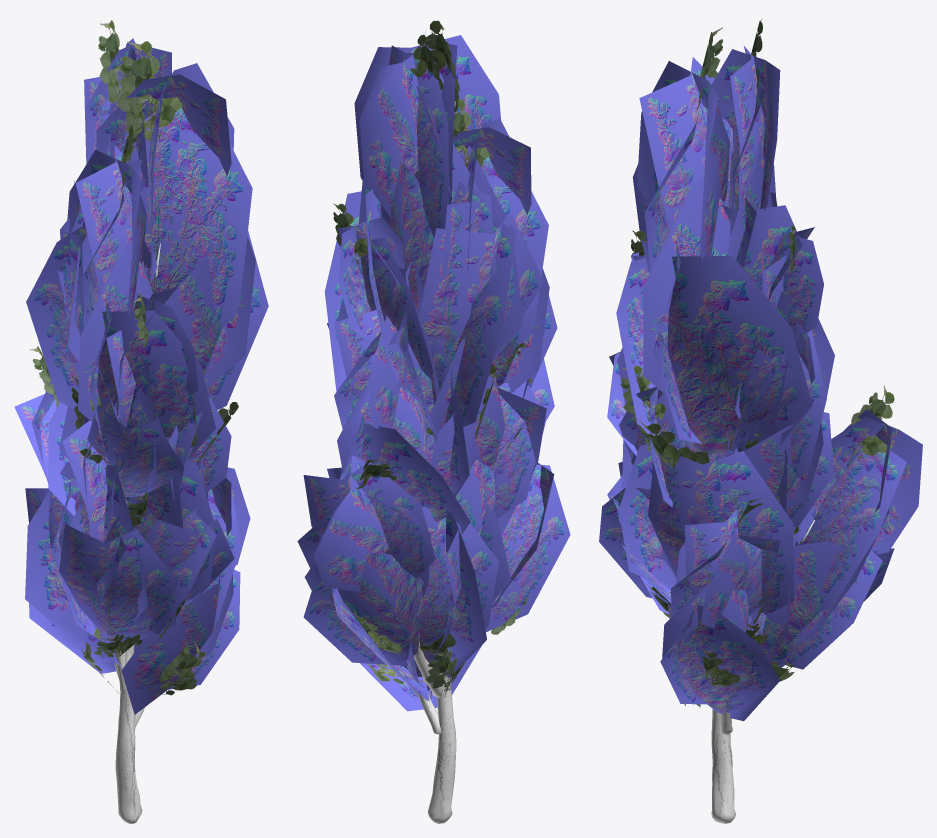
The model's file is PoplarTree00b.fbx.
The picture shows the model from 3 angles, left to right: view 1: azimuth 30°, elevation 25°; view 2: azimuth 150°, elevation 25°; view 3: azimuth 270°, elevation 25°; orthographic projection.
Parts seen in each view (by area): view 1: PoplarBranchA036, PoplarBranchA003, PoplarBranchB021, PoplarBranchA040, PoplarBranchB027, PoplarBranchA037, PoplarBranchB003, PoplarBranchA032, PoplarBranchA013, PoplarBranchB020, PoplarBranchB023, PoplarBranchB024 (+39 smaller); view 2: PoplarBranchA038, PoplarBranchB016, PoplarBranchA005, PoplarBranchB029, PoplarBranchA047, PoplarBranchA040, PoplarBranchB028, PoplarBranchA050, PoplarBranchA027, PoplarBranchB012, PoplarBranchB017, PoplarBranchB022 (+43 smaller); view 3: PoplarBranchB024, PoplarBranchA, PoplarBranchA046, PoplarBranchA037, PoplarBranchB027, PoplarBranchB023, PoplarBranchB022, PoplarBranchB028, PoplarBranchB030, PoplarBranchB005, PoplarBranchA042, PoplarBranchB016 (+39 smaller).
Boxes of the visible parts, x1,y1,x2,y2 form: PoplarBranchA036: [108, 96, 252, 327]; PoplarBranchA003: [59, 524, 177, 646]; PoplarBranchB021: [75, 298, 215, 458]; PoplarBranchA040: [26, 225, 151, 409]; PoplarBranchB027: [121, 575, 220, 714]; PoplarBranchA037: [96, 74, 231, 175]; PoplarBranchB003: [25, 461, 171, 663]; PoplarBranchA032: [75, 145, 145, 294]; PoplarBranchA013: [87, 405, 183, 497]; PoplarBranchB020: [78, 241, 152, 421]; PoplarBranchB023: [68, 160, 255, 387]; PoplarBranchB024: [113, 240, 222, 419]; PoplarBranchA038: [419, 213, 543, 365]; PoplarBranchB016: [359, 45, 443, 218]; PoplarBranchA005: [485, 464, 570, 631]; PoplarBranchB029: [304, 506, 435, 662]; PoplarBranchA047: [303, 462, 435, 578]; PoplarBranchA040: [454, 218, 516, 427]; PoplarBranchB028: [313, 455, 388, 592]; PoplarBranchA050: [420, 517, 498, 663]; PoplarBranchA027: [389, 45, 449, 238]; PoplarBranchB012: [361, 423, 470, 533]; PoplarBranchB017: [380, 143, 478, 308]; PoplarBranchB022: [354, 35, 500, 180]; PoplarBranchB024: [641, 240, 812, 454]; PoplarBranchA: [648, 451, 794, 614]; PoplarBranchA046: [795, 450, 906, 610]; PoplarBranchA037: [639, 57, 733, 230]; PoplarBranchB027: [652, 592, 780, 721]; PoplarBranchB023: [643, 176, 730, 410]; PoplarBranchB022: [637, 61, 729, 261]; PoplarBranchB028: [786, 416, 922, 554]; PoplarBranchB030: [760, 541, 894, 667]; PoplarBranchB005: [618, 443, 676, 589]; PoplarBranchA042: [685, 509, 761, 615]; PoplarBranchB016: [711, 49, 780, 212].
Bounding box in the file's own units: 656 × 2516 × 915.
